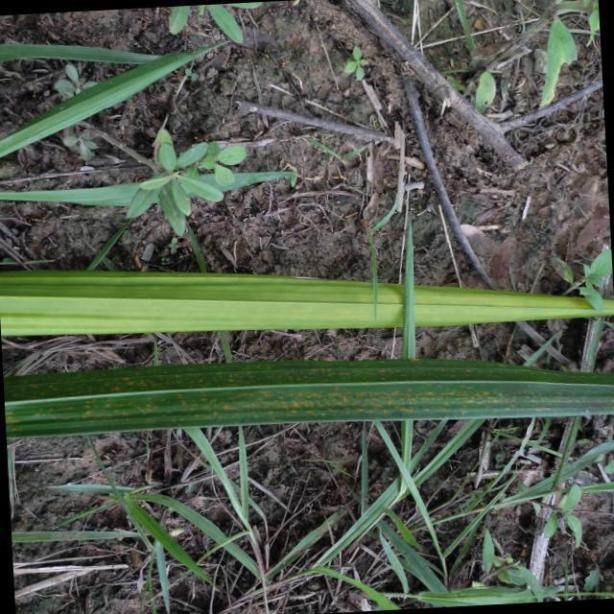nitrogen: (0, 352, 614, 441), (0, 268, 614, 340)
